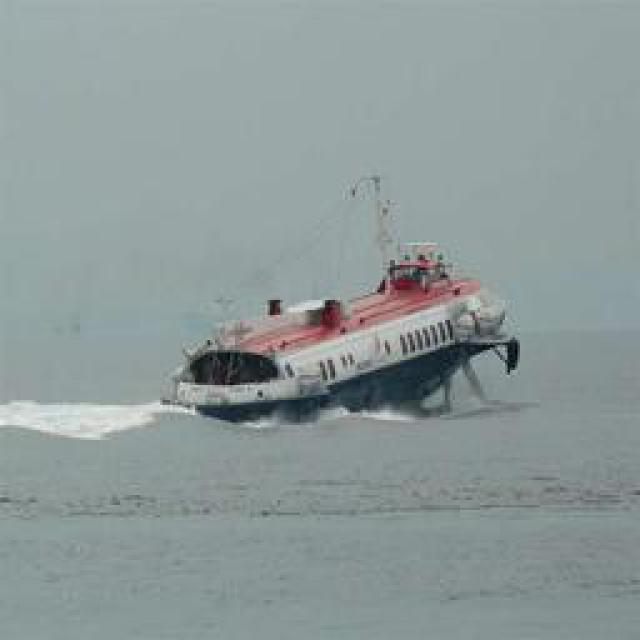Ship: (169, 233, 519, 428)
